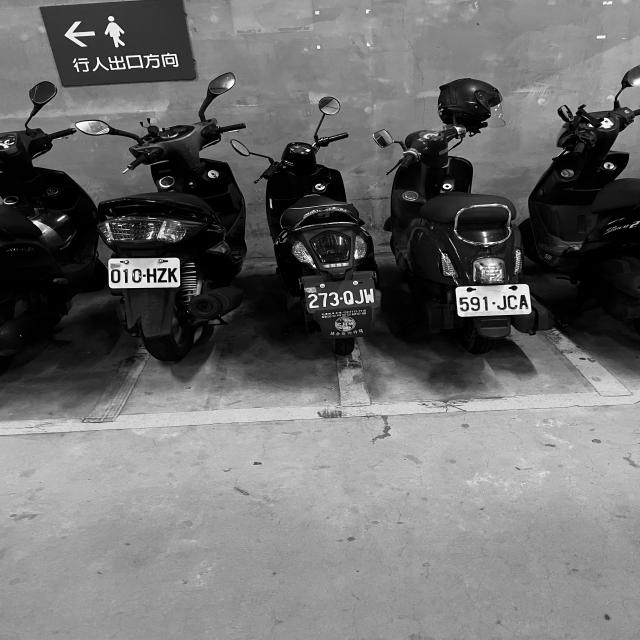-: (339, 296, 344, 300), (491, 300, 495, 304), (142, 274, 146, 278)
0: (132, 268, 142, 282), (110, 270, 120, 284)
1: (482, 296, 490, 312), (123, 268, 129, 284)
2: (307, 293, 320, 309)
3: (329, 291, 341, 307)
5: (459, 296, 469, 312)
7: (318, 291, 328, 308)
9: (470, 296, 480, 310)
A: (518, 294, 530, 310)
C: (508, 294, 518, 310)
H: (146, 267, 156, 283)
J: (354, 289, 365, 305), (497, 294, 507, 310)
K: (168, 268, 178, 282)
Q: (342, 290, 355, 306)
W: (363, 288, 375, 304)
Z: (157, 268, 167, 282)
plate: (305, 279, 377, 311), (108, 259, 180, 287), (457, 288, 531, 314)
